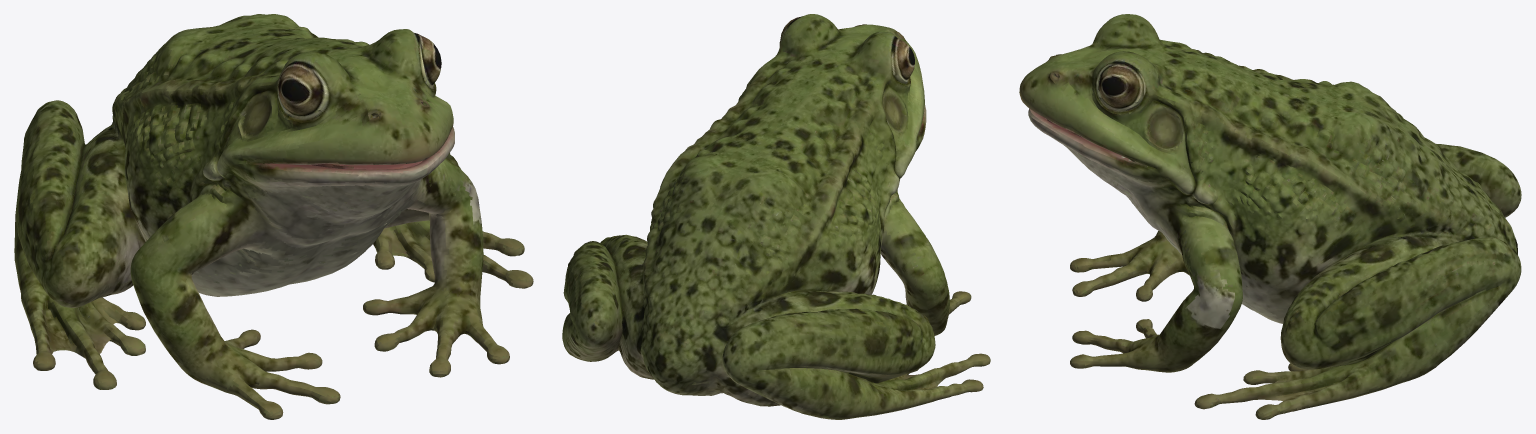
The model's file is frog.glb.
3 renders of one model, left to right at view 1: azimuth 30°, elevation 25°; view 2: azimuth 150°, elevation 25°; view 3: azimuth 270°, elevation 25°, orthographic. The views are drawn at different scales.
Parts seen in each view (by area): view 1: output; view 2: output; view 3: output.
Boxes of the visible parts, x1,y1,x2,y2 form: output: (14,14,533,419); output: (562,14,990,419); output: (1019,14,1521,419).
Bounding box in the file's own units: 1.86 × 1.18 × 1.9.
Materials: 1 (1 with a texture image).
